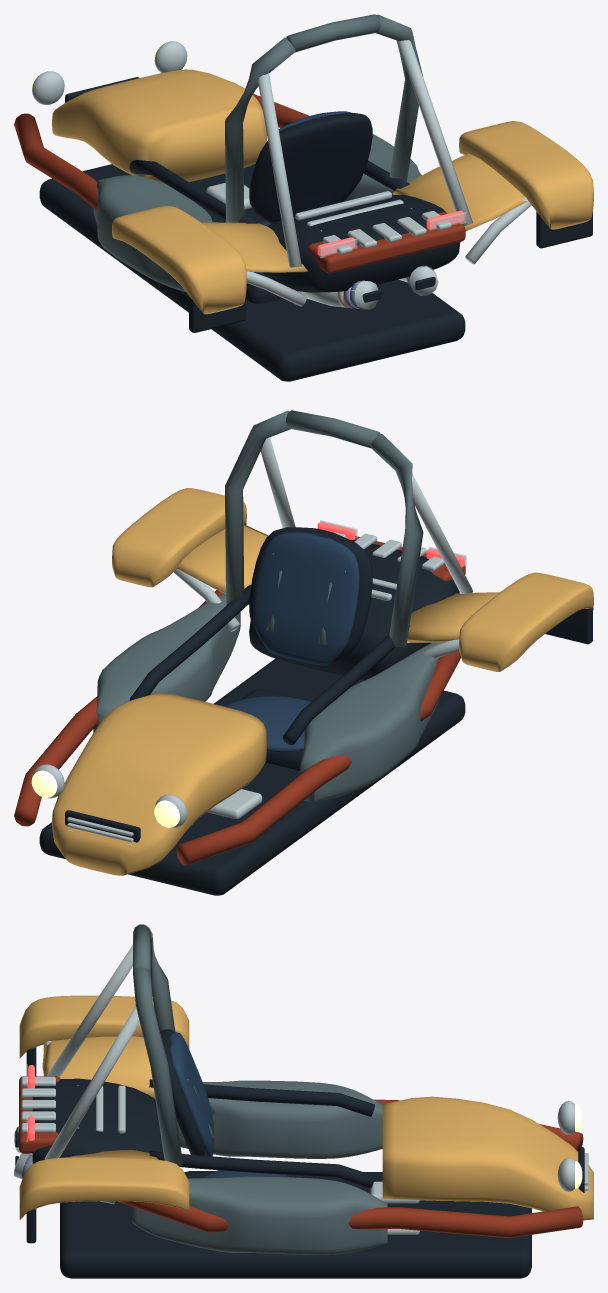
Rendered from duenenspur.glb.
3 renders of one model, top to bottom at view 1: azimuth 30°, elevation 25°; view 2: azimuth 150°, elevation 25°; view 3: azimuth 270°, elevation 25°, orthographic. The views are drawn at different scales.
Visible parts, largest first — view 1: LOD0, ShowroomDetail; view 2: LOD0; view 3: LOD0.
Part boxes in pixels (x1,y1,x2,y2): LOD0: [14, 14, 593, 381]; ShowroomDetail: [320, 212, 466, 309]; LOD0: [14, 410, 593, 895]; LOD0: [14, 924, 593, 1278].
Size of what is drawn, in the model's own units: 1.81 by 1.31 by 2.33.
